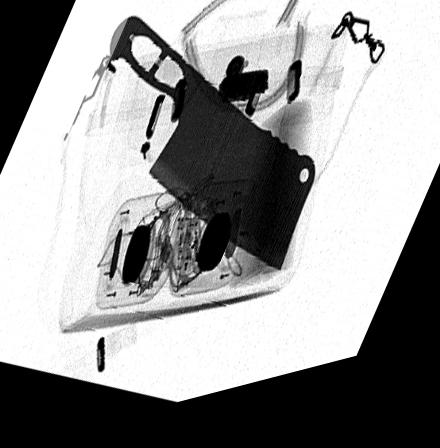Knife: (109, 21, 316, 285)
